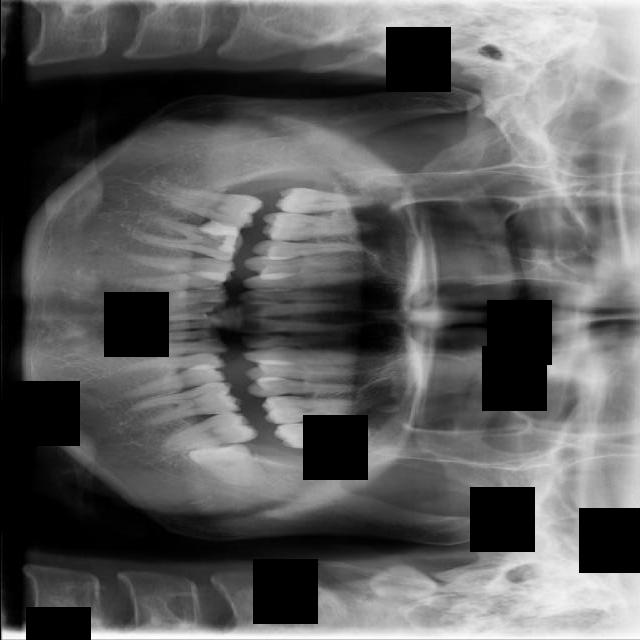52: (188, 213, 247, 265)
73: (44, 606, 58, 613)
BioHorizons Implant: (273, 422, 379, 449)
Biomet 3i Implant: (185, 439, 267, 492)
Blue Sky Bio Implant: (156, 408, 259, 454)
Caries: (275, 187, 378, 217)
Implant: (156, 185, 264, 233)
